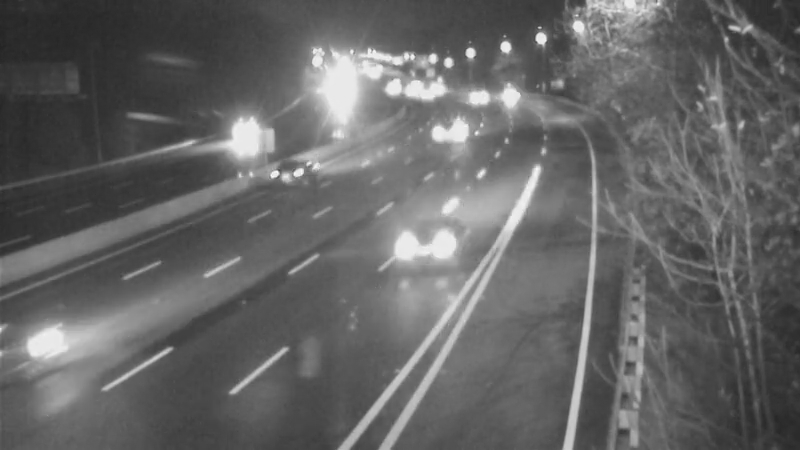vehicle: (1, 284, 106, 394), (245, 134, 325, 214), (391, 204, 471, 284), (488, 71, 538, 121), (398, 69, 448, 119), (455, 74, 505, 124), (424, 108, 474, 158), (222, 109, 272, 159)
